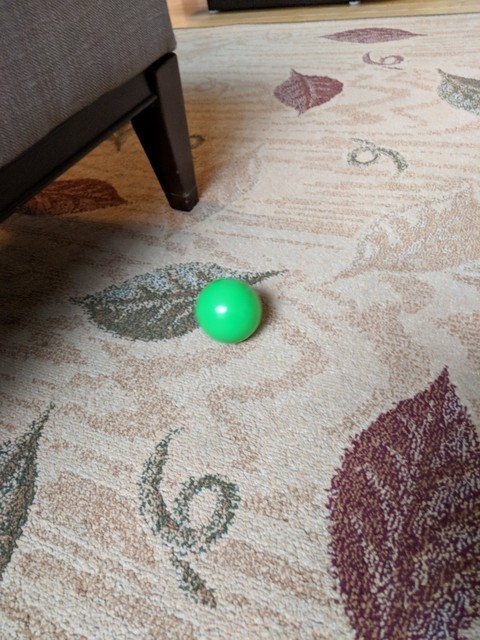ball: (193, 275, 262, 343)
